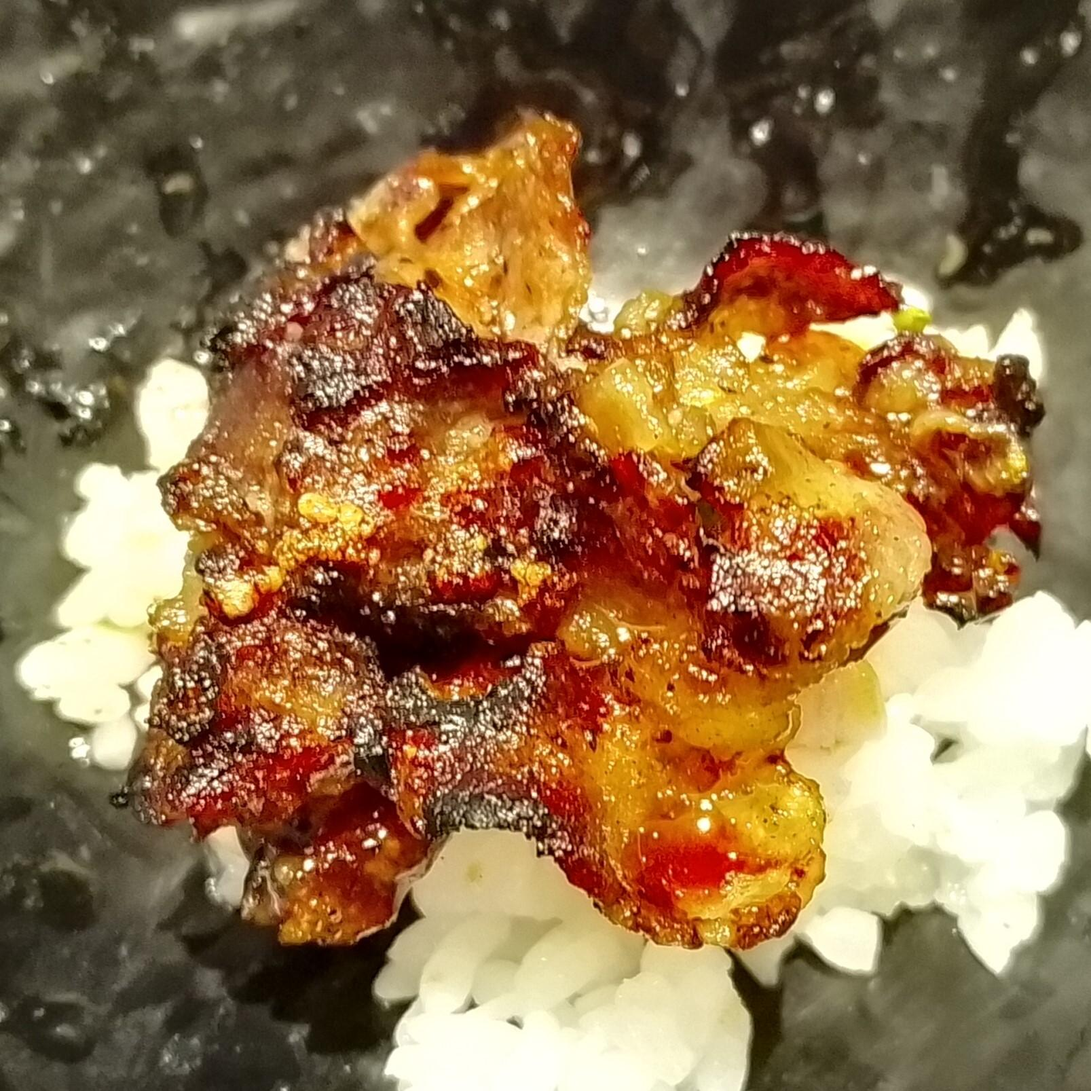Overcooked: (123, 111, 1040, 956)
